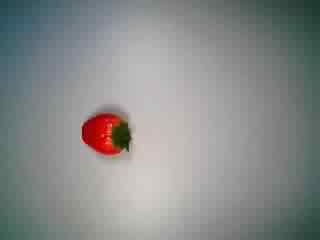strawberry: (68, 106, 136, 170)
